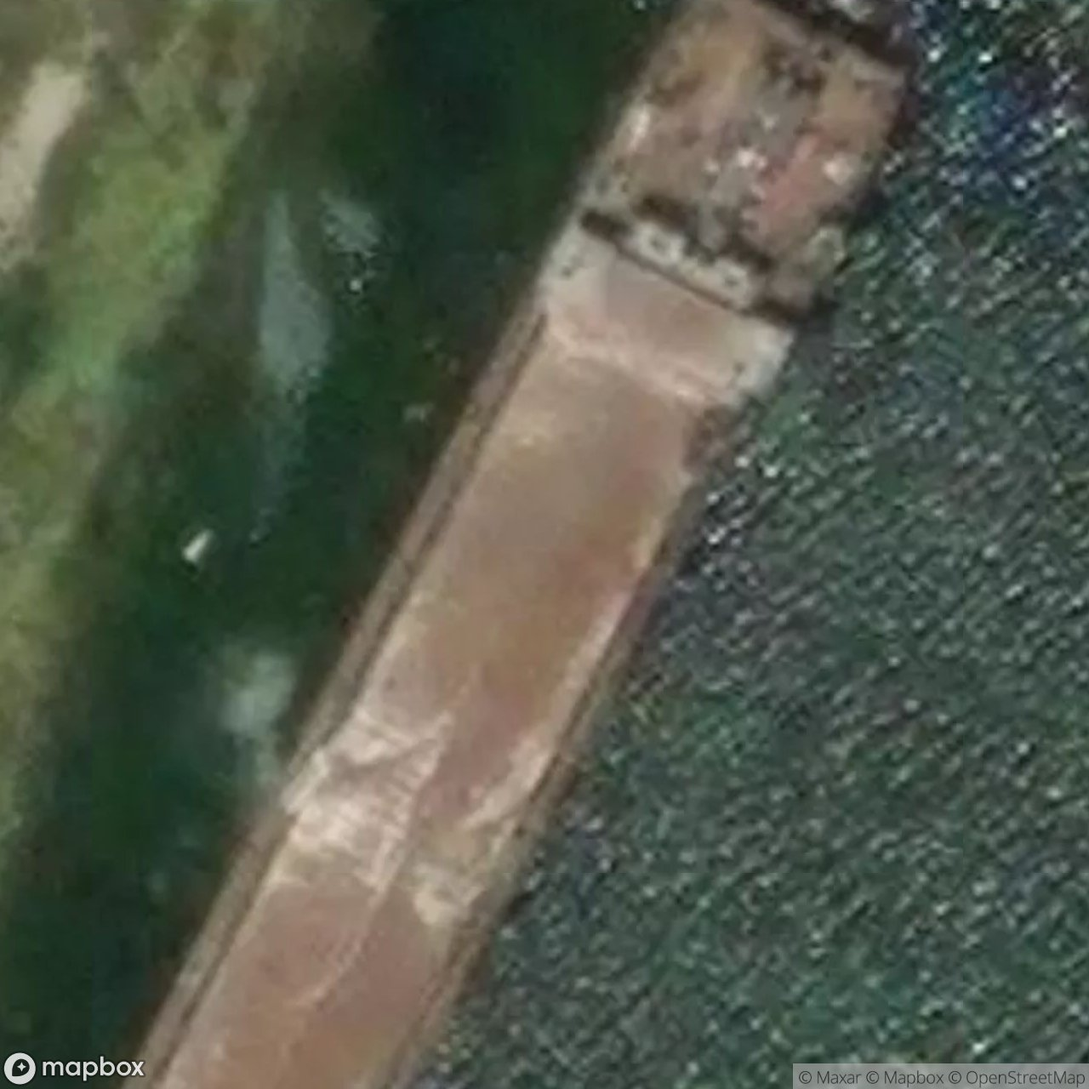Wreck: (535, 33, 907, 1021)
